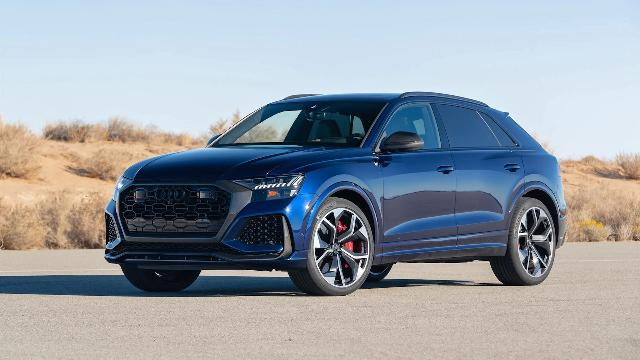audi: (104, 93, 568, 296)
